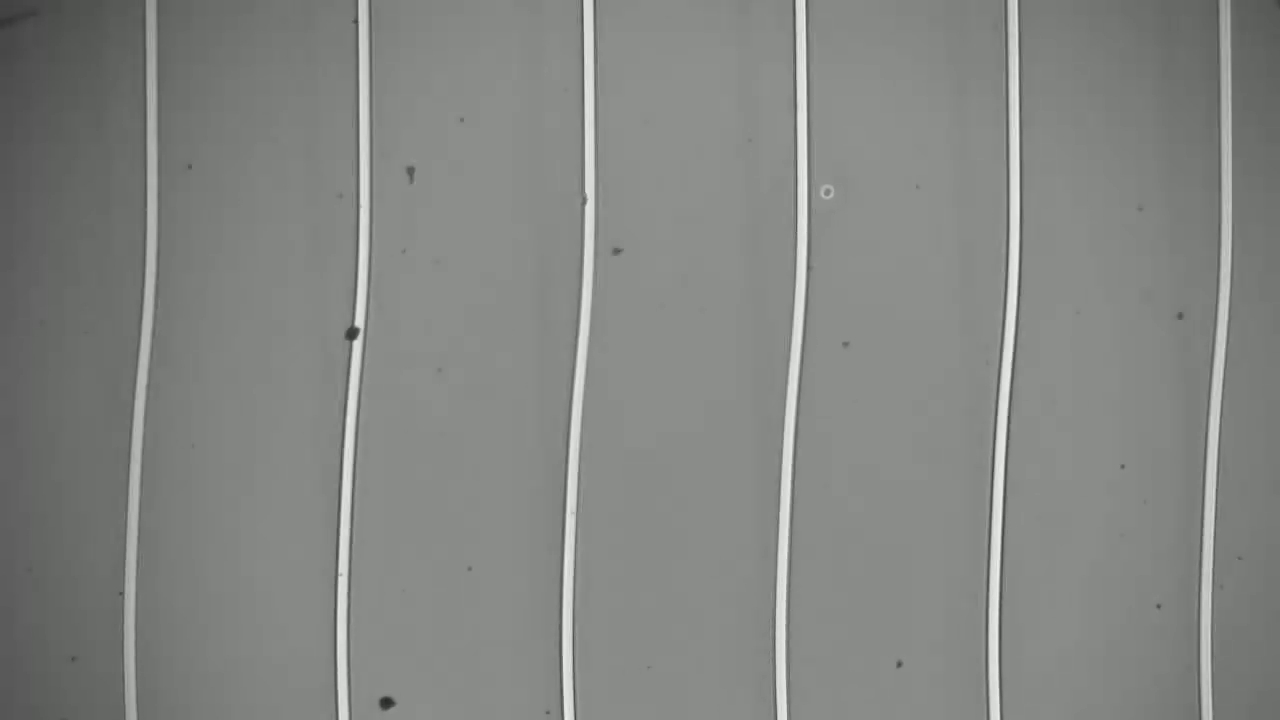stains_enbedded: (339, 315, 374, 343)
